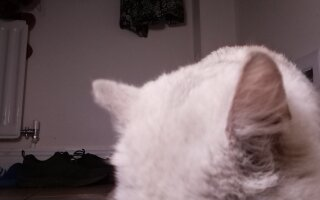bad: (87, 42, 319, 200)
